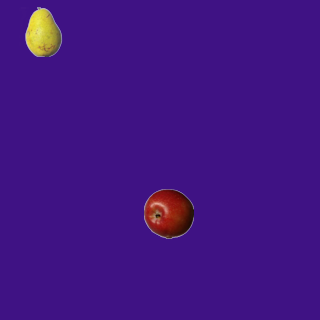Apple Braeburn: (143, 188, 193, 238)
Pear Monster: (18, 6, 68, 56)
